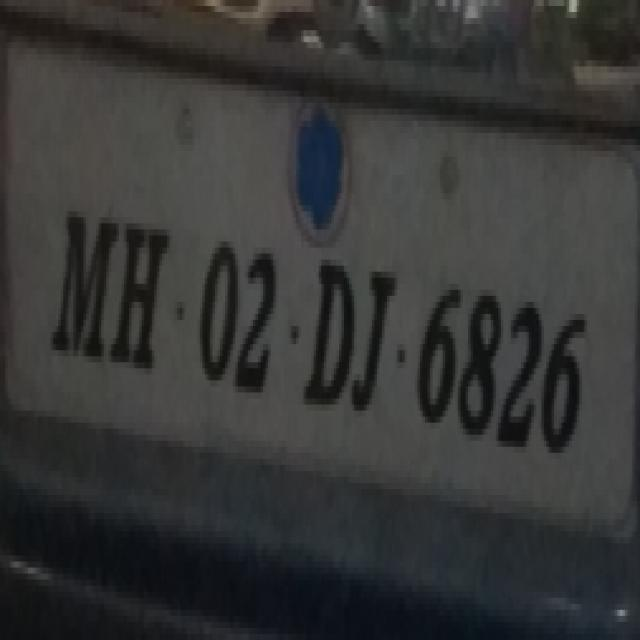0: (197, 214, 240, 396)
6: (544, 296, 592, 459), (418, 258, 460, 431)
8: (461, 267, 502, 446)
D: (304, 246, 356, 422)
H: (114, 210, 166, 383)
J: (348, 258, 402, 420)
M: (46, 198, 116, 366)
